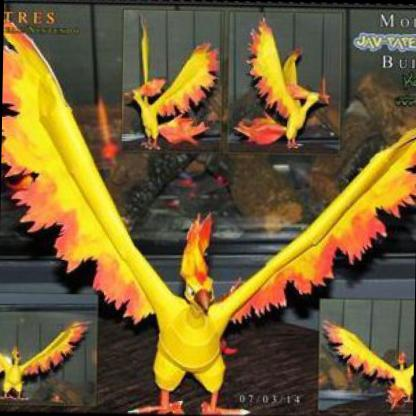Moltres: (19, 25, 416, 416)
